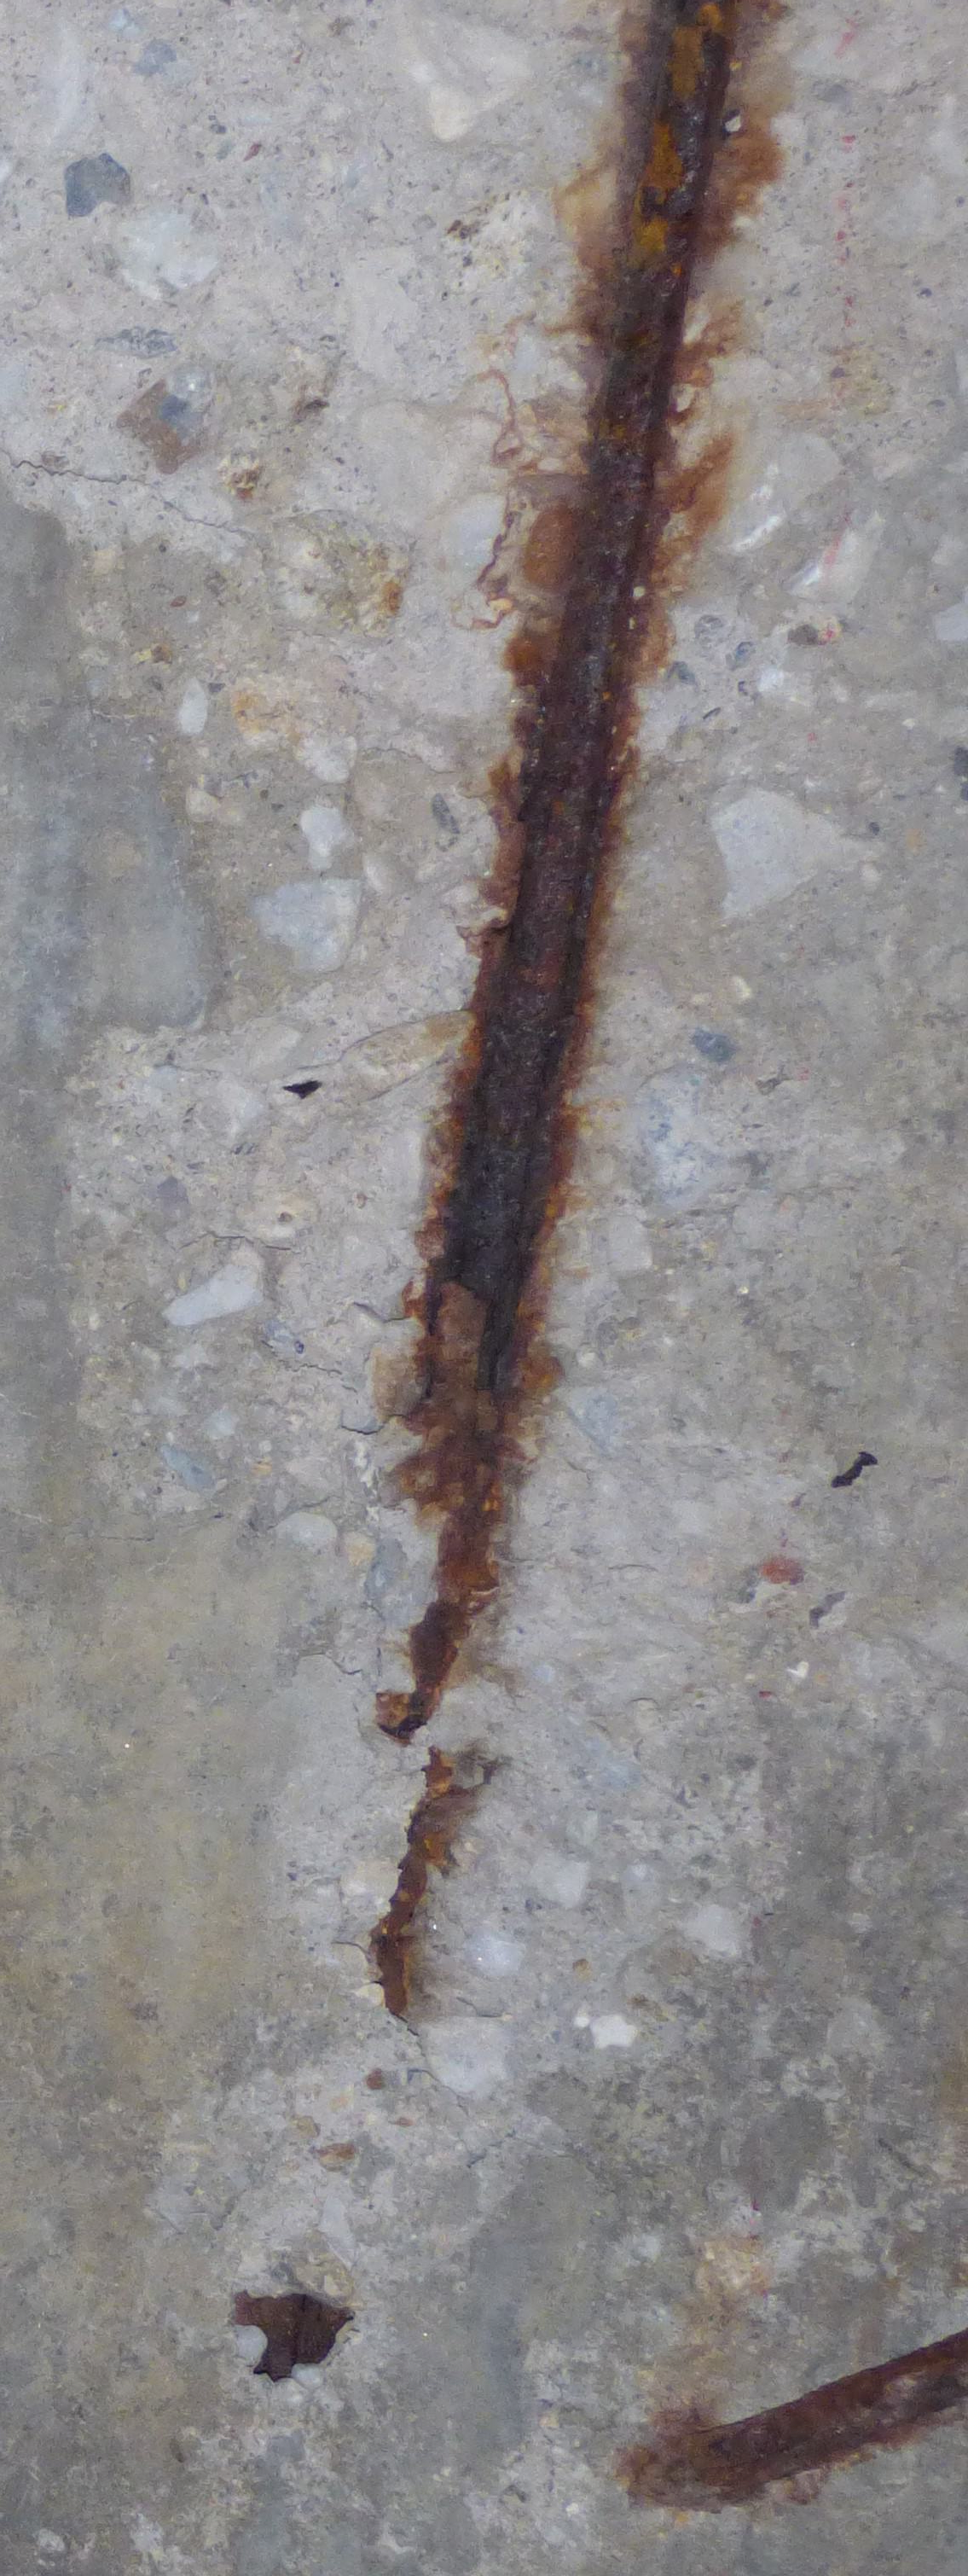Corrosion: (373, 1393, 544, 1746), (365, 1746, 477, 2014), (227, 2288, 355, 2382)
Exposed reinforcement: (431, 2, 738, 1393), (626, 2325, 968, 2514)
